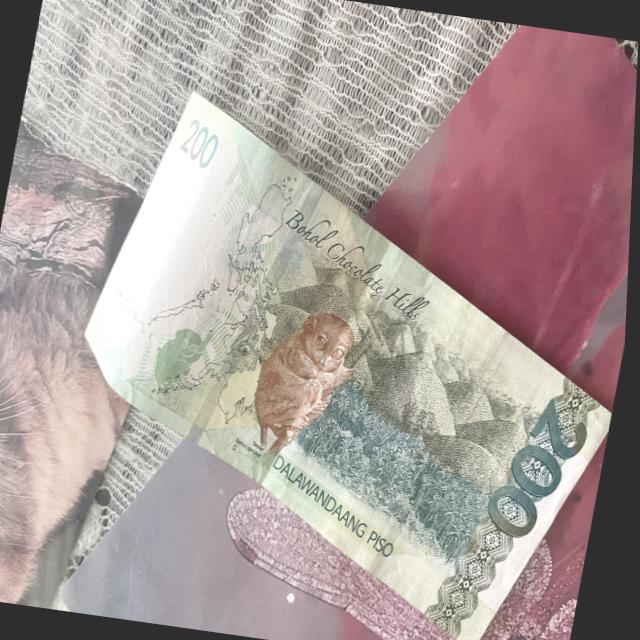200_tarsier: (230, 288, 388, 486)
200_tarsier_watermark: (134, 314, 227, 422)
